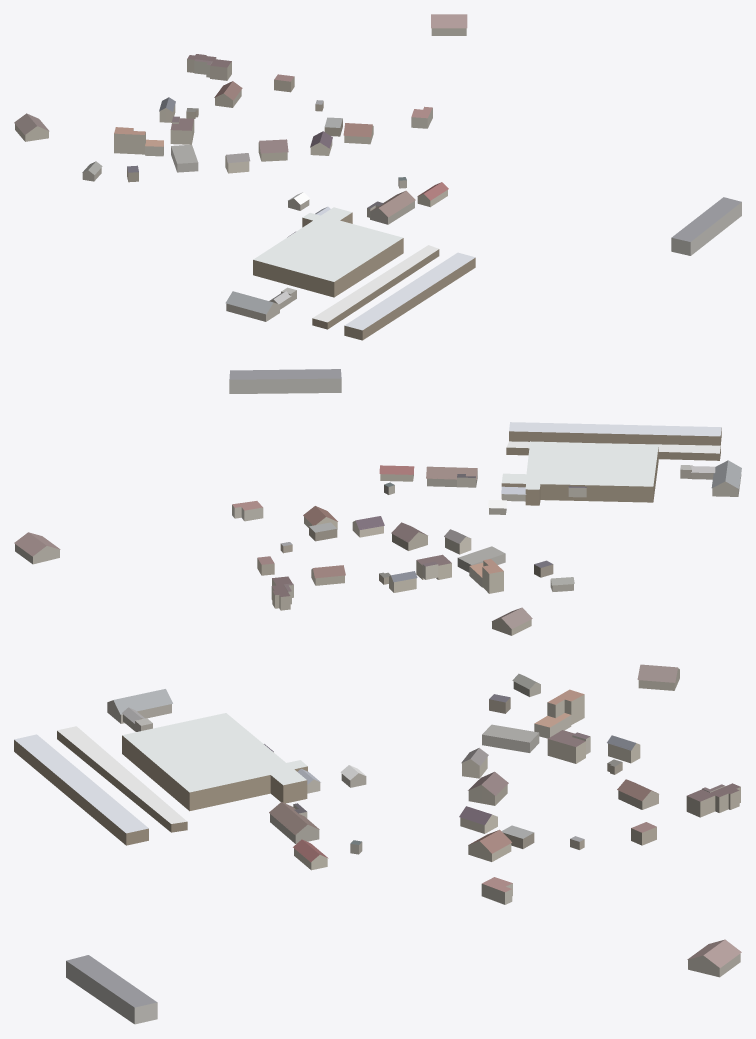
The picture shows the model from 3 angles, top to bottom: view 1: azimuth 30°, elevation 25°; view 2: azimuth 150°, elevation 25°; view 3: azimuth 270°, elevation 25°; orthographic projection. The views are drawn at different scales.
Visible parts, largest first — view 1: tuile; view 2: tuile; view 3: tuile.
Part boxes in pixels (bbox=[...]): tuile: bbox=[14, 14, 741, 340]; tuile: bbox=[14, 369, 741, 635]; tuile: bbox=[14, 664, 741, 1024].
Bounding box in the file's own units: 268 × 30.05 × 277.
